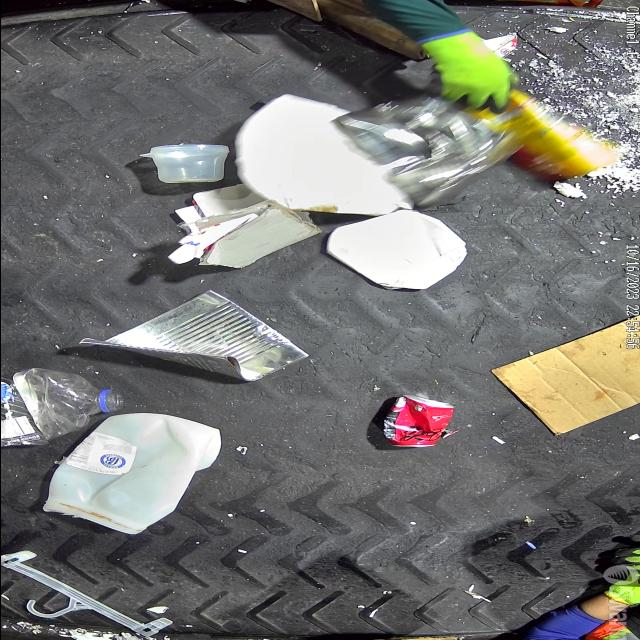can: (382, 394, 456, 448)
milk_jug: (41, 412, 220, 534)
plastic_bottle: (0, 368, 123, 448)
